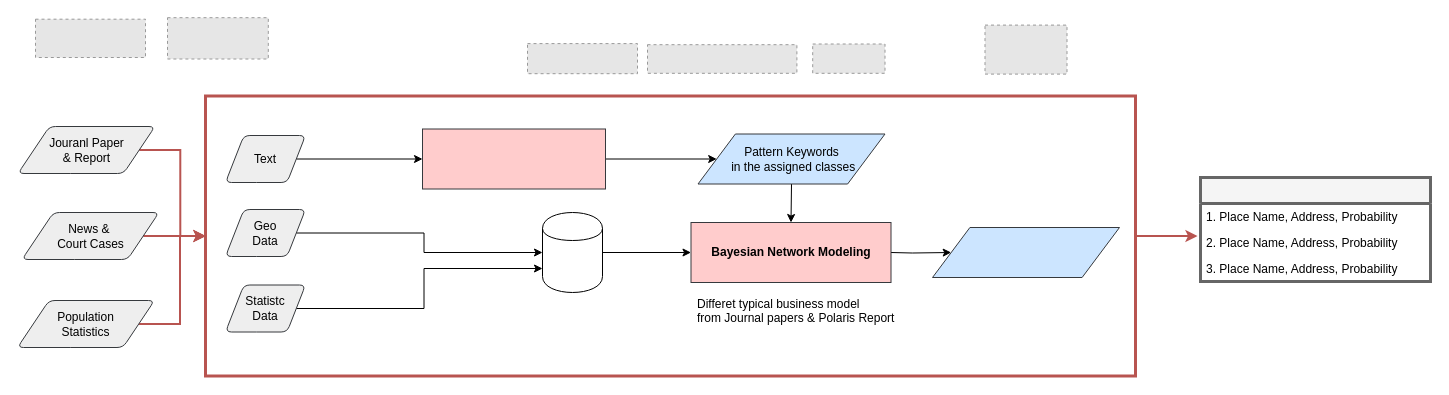
The diagram is 1449 pixels wide and 395 high, and some of its shapes have lost their labels. Grey dashed boxes stand in for pictures. Each missing label, with the box of its shape:
Data Hub: (542, 212, 602, 292)
Likelihood of the each Location: (932, 226, 1120, 278)
Natural Language Processing Modeling (RNN): (422, 128, 606, 189)
Sort List of the potential location: (1198, 176, 1432, 282)
